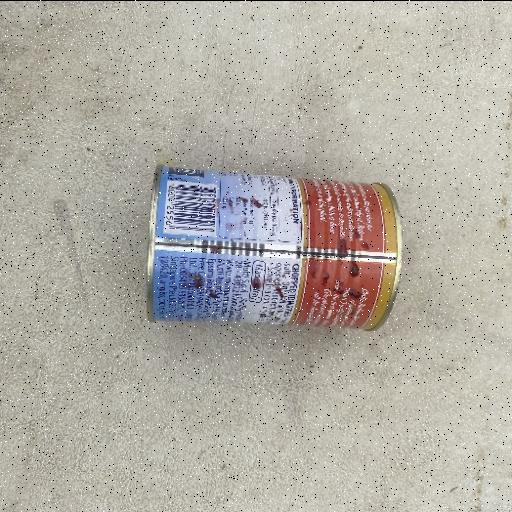Metal: (144, 163, 402, 332)
